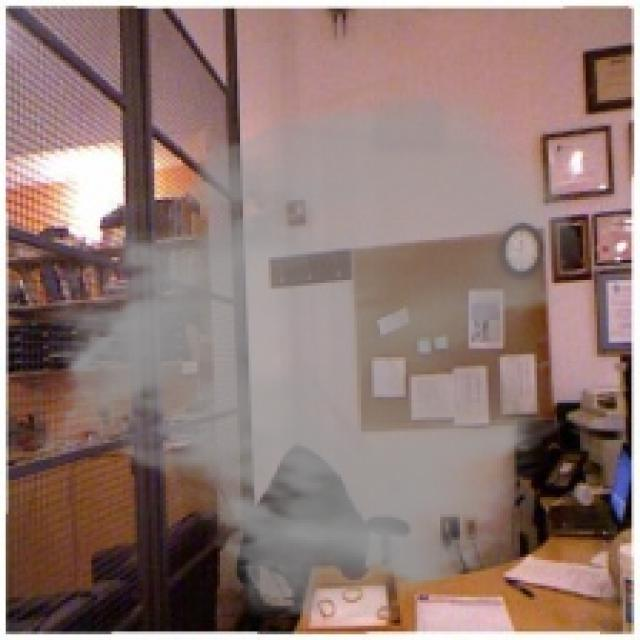smoke: (28, 83, 586, 626)
